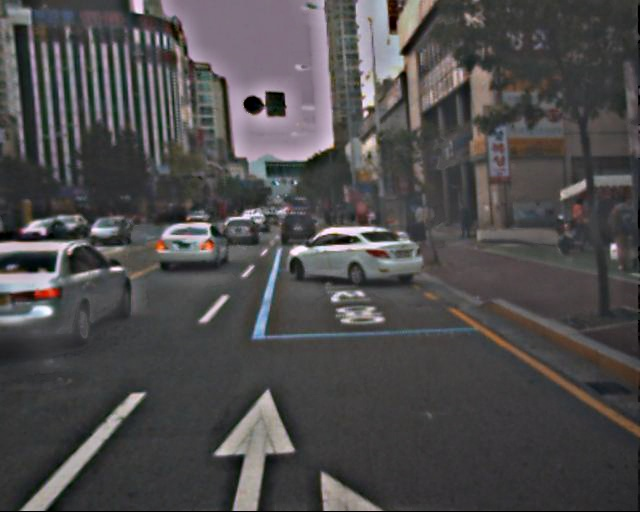person: (603, 196, 635, 273), (569, 198, 588, 244), (414, 202, 432, 246), (458, 204, 474, 242), (365, 207, 377, 236)
